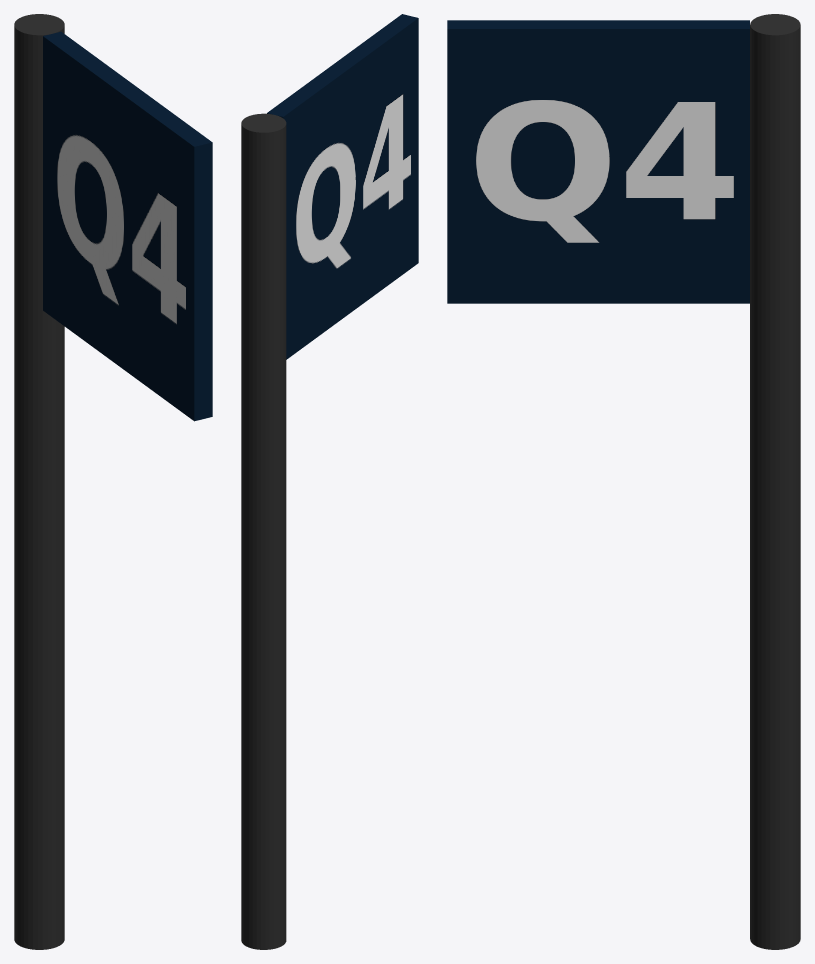
The model's file is start_flag.dae.
The picture shows the model from 3 angles, left to right: view 1: azimuth 30°, elevation 25°; view 2: azimuth 150°, elevation 25°; view 3: azimuth 270°, elevation 25°; orthographic projection. The views are drawn at different scales.
Parts seen in each view (by area): view 1: flag; view 2: flag; view 3: flag.
Boxes of the visible parts, <box> form: flag: <box>14,14,212,949</box>; flag: <box>241,14,418,949</box>; flag: <box>447,14,800,949</box>.
Bounding box in the file's own units: 0.1 × 0.7 × 2.
Materials: 2 (1 with a texture image).
